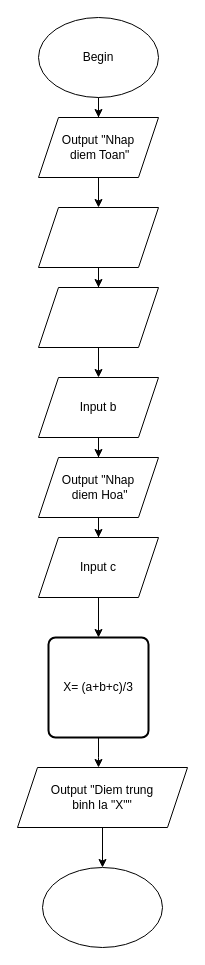
Image size: 205x965. Some labels were removed from this diagram. Each missing label, with the box of its shape:
End: (42, 866, 162, 948)
Input a: (38, 206, 158, 268)
Output "Nhap diem Ly": (38, 286, 158, 348)
